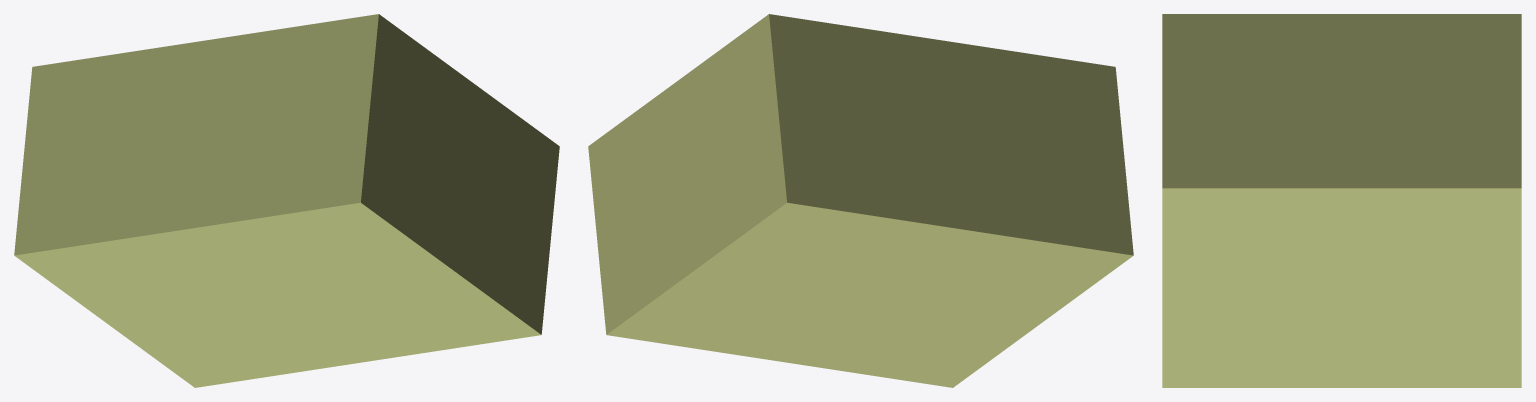
The picture shows the model from 3 angles, left to right: view 1: azimuth 30°, elevation 25°; view 2: azimuth 150°, elevation 25°; view 3: azimuth 270°, elevation 25°; orthographic projection.
Parts seen in each view (by area): view 1: 0_1_0_0_0_1_2_1_0_2_2; view 2: 0_1_0_0_0_1_2_1_0_2_2; view 3: 0_1_0_0_0_1_2_1_0_2_2.
Boxes of the visible parts, x1,y1,x2,y2 form: 0_1_0_0_0_1_2_1_0_2_2: [14, 14, 559, 387]; 0_1_0_0_0_1_2_1_0_2_2: [588, 14, 1133, 387]; 0_1_0_0_0_1_2_1_0_2_2: [1162, 14, 1521, 387].
Size of the model in its own units: 10.48 by 5.93 by 9.
